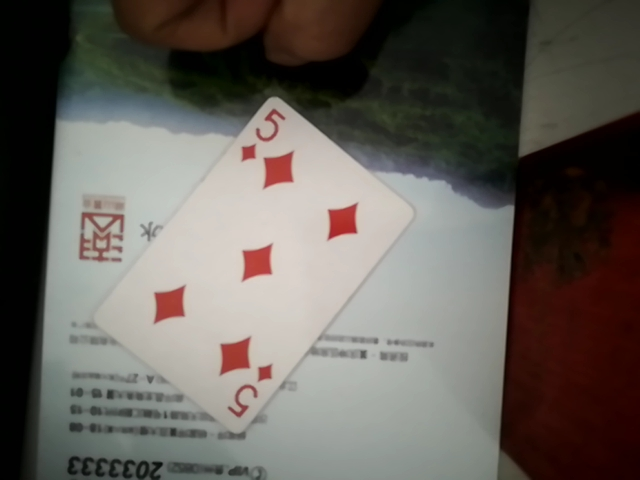fk 5: (91, 86, 404, 423)
